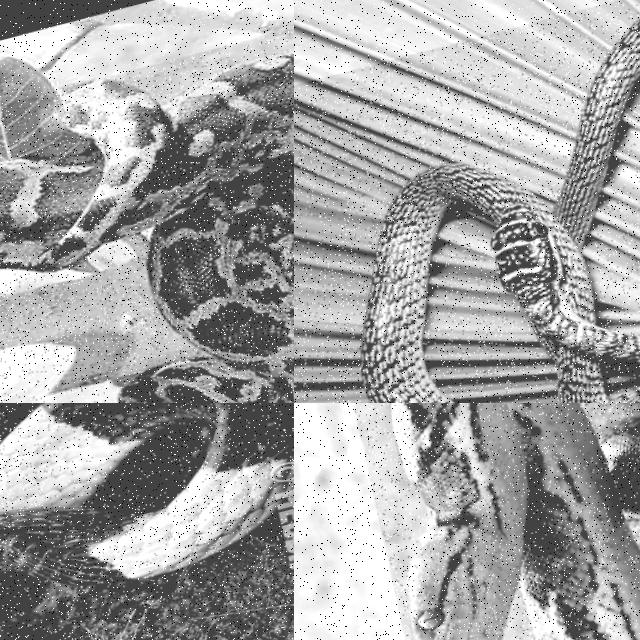Bungarus fasciatus: (0, 403, 293, 584)
Chrysopelea ornata: (362, 19, 639, 402)
Malayopython reticulatus: (392, 403, 639, 639)
Python bivittatus: (0, 54, 293, 402)
